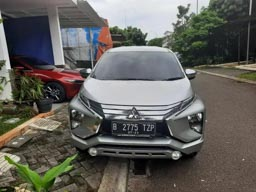plat: (111, 121, 157, 132)
